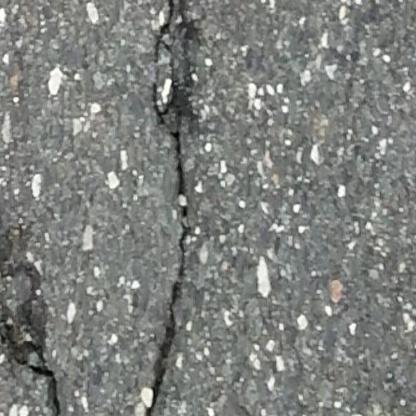Cracks: (145, 0, 201, 416), (0, 262, 66, 416)
